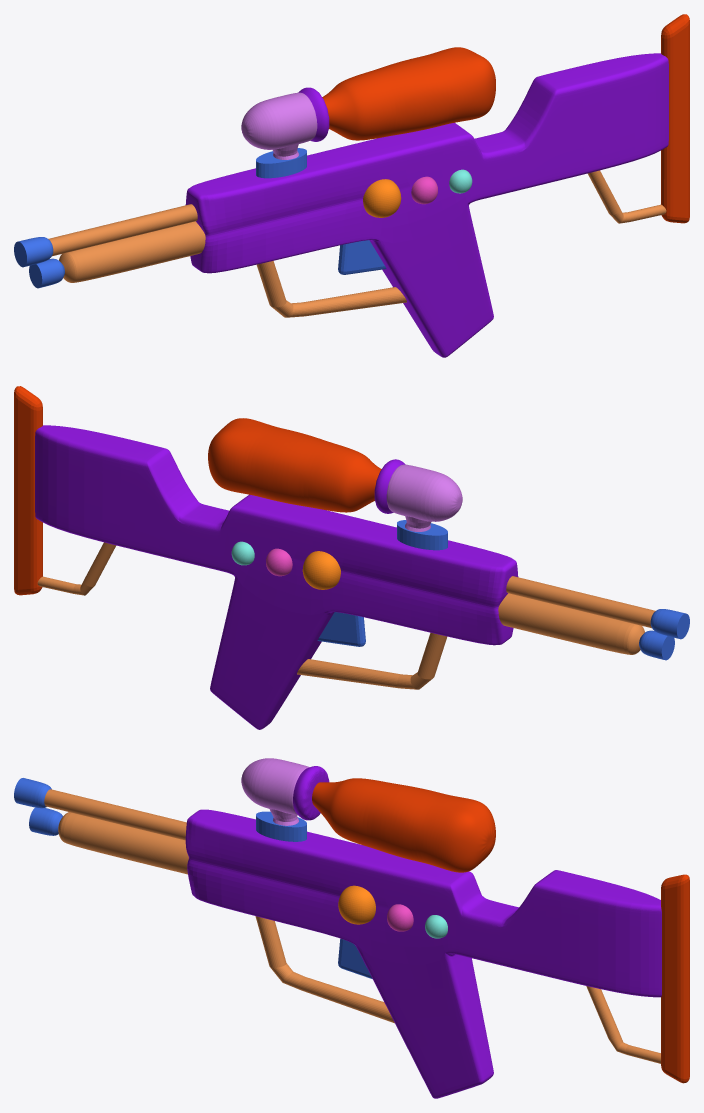
The model's file is RifleGun.fbx.
3 views of the same model, one above another, from view 1: azimuth 30°, elevation 25°; view 2: azimuth 150°, elevation 25°; view 3: azimuth 330°, elevation 25° (orthographic).
Parts seen in each view (by area): view 1: Cube.001, Circle, Cube, Circle.007, Circle.002, Circle.008, Circle.004, Cube.005, Cube.002, Circle.009, Cylinder, Circle.005 (+3 smaller); view 2: Cube.001, Circle, Cube, Circle.007, Circle.002, Circle.008, Circle.004, Cube.005, Cube.002, Circle.009, Cylinder, Circle.005 (+3 smaller); view 3: Cube.001, Circle, Cube, Circle.007, Circle.008, Circle.004, Circle.002, Circle.009, Circle.001, Cube.002, Cylinder, Circle.005 (+3 smaller).
Part boxes in pixels (x1,y1,x2,y2): Cube.001: (185, 53, 668, 357); Circle: (322, 47, 495, 140); Cube: (661, 14, 689, 223); Circle.007: (59, 221, 205, 282); Circle.002: (241, 92, 317, 149); Circle.008: (256, 261, 406, 317); Circle.004: (48, 204, 197, 256); Cube.005: (338, 240, 386, 274); Cube.002: (363, 179, 401, 217); Circle.009: (587, 170, 666, 223); Cylinder: (256, 148, 306, 178); Circle.005: (14, 237, 53, 267); Cube.001: (35, 425, 518, 729); Circle: (208, 418, 381, 512); Cube: (14, 386, 42, 595); Circle.007: (498, 593, 644, 654); Circle.002: (386, 464, 462, 521); Circle.008: (297, 632, 447, 689); Circle.004: (506, 576, 655, 628); Cube.005: (317, 612, 365, 646); Cube.002: (302, 551, 340, 589); Circle.009: (37, 542, 116, 595); Cylinder: (397, 520, 447, 550); Circle.005: (650, 609, 689, 639); Cube.001: (185, 809, 661, 1098); Circle: (312, 778, 495, 872); Cube: (661, 874, 689, 1083); Circle.007: (58, 812, 188, 874); Circle.008: (255, 916, 394, 1023); Circle.004: (44, 789, 186, 840); Circle.002: (241, 758, 309, 815); Circle.009: (586, 986, 660, 1063); Circle.001: (293, 766, 329, 820); Cube.002: (338, 885, 375, 924); Cylinder: (256, 811, 306, 841); Circle.005: (14, 778, 51, 808).
Size of the model in its own units: 494 by 210 by 54.14.
